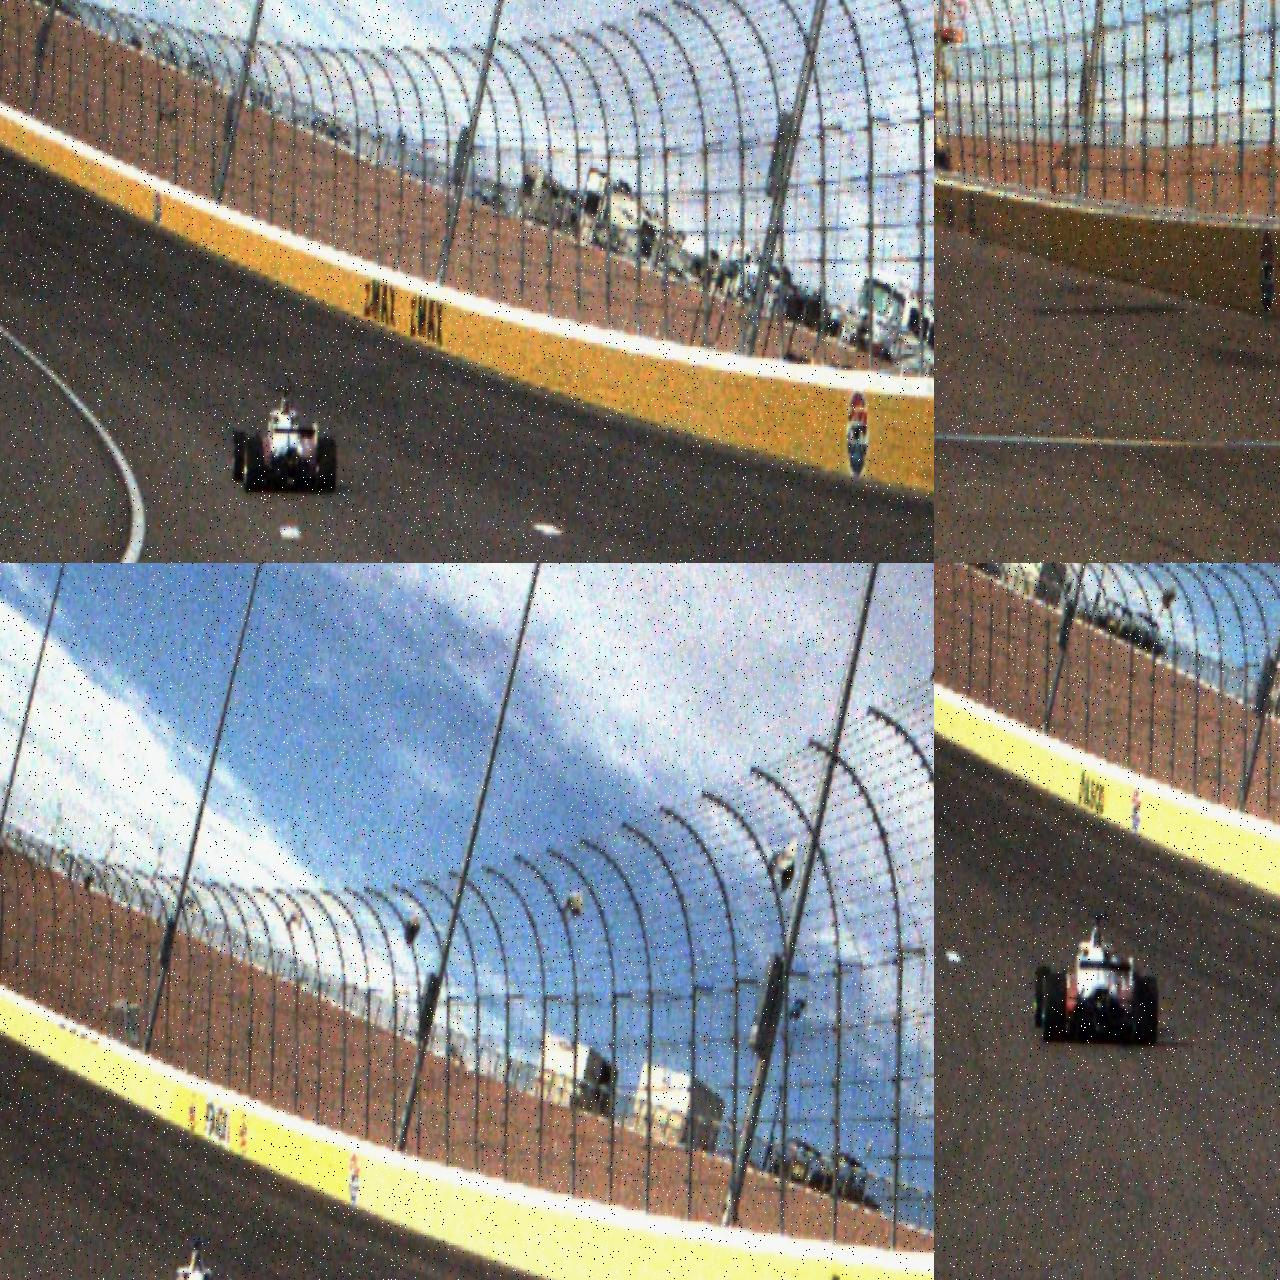AV: (1033, 911, 1160, 1047), (230, 384, 340, 493), (132, 1235, 260, 1280)
Wheel: (1042, 972, 1067, 1043), (1135, 975, 1158, 1046), (318, 435, 338, 495), (1034, 964, 1051, 1028), (244, 435, 264, 491), (231, 429, 246, 483)
